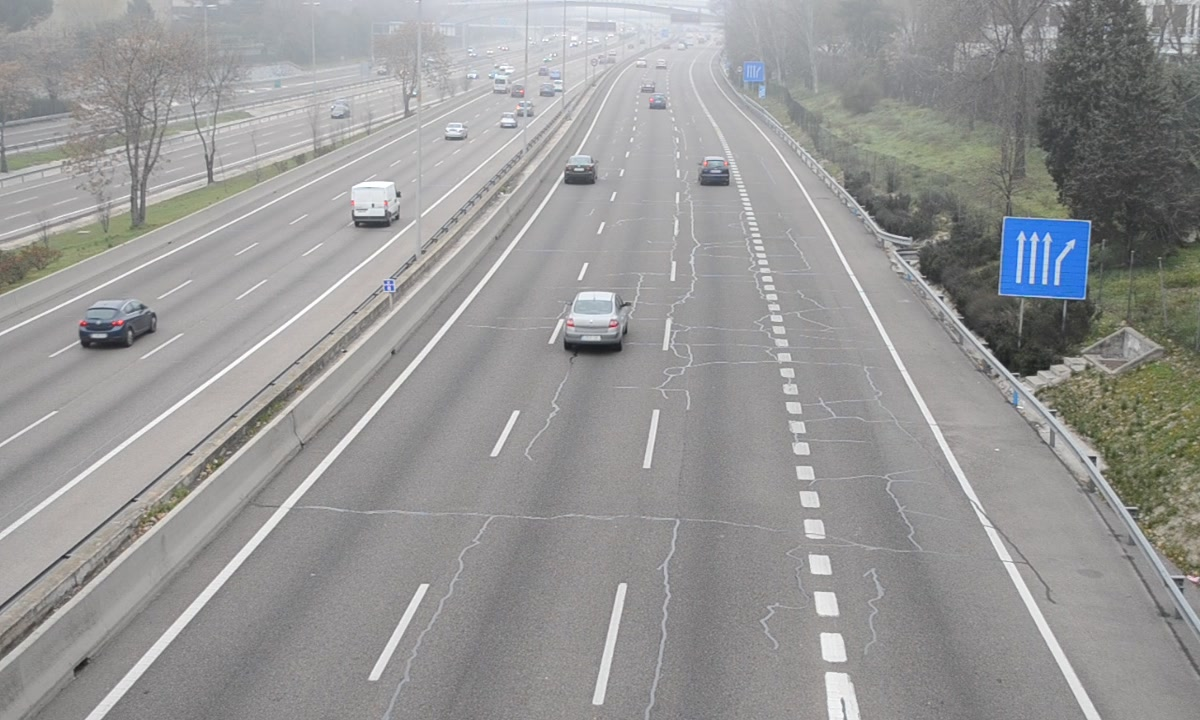car: (563, 293, 626, 345), (564, 155, 597, 185), (699, 157, 731, 187)
